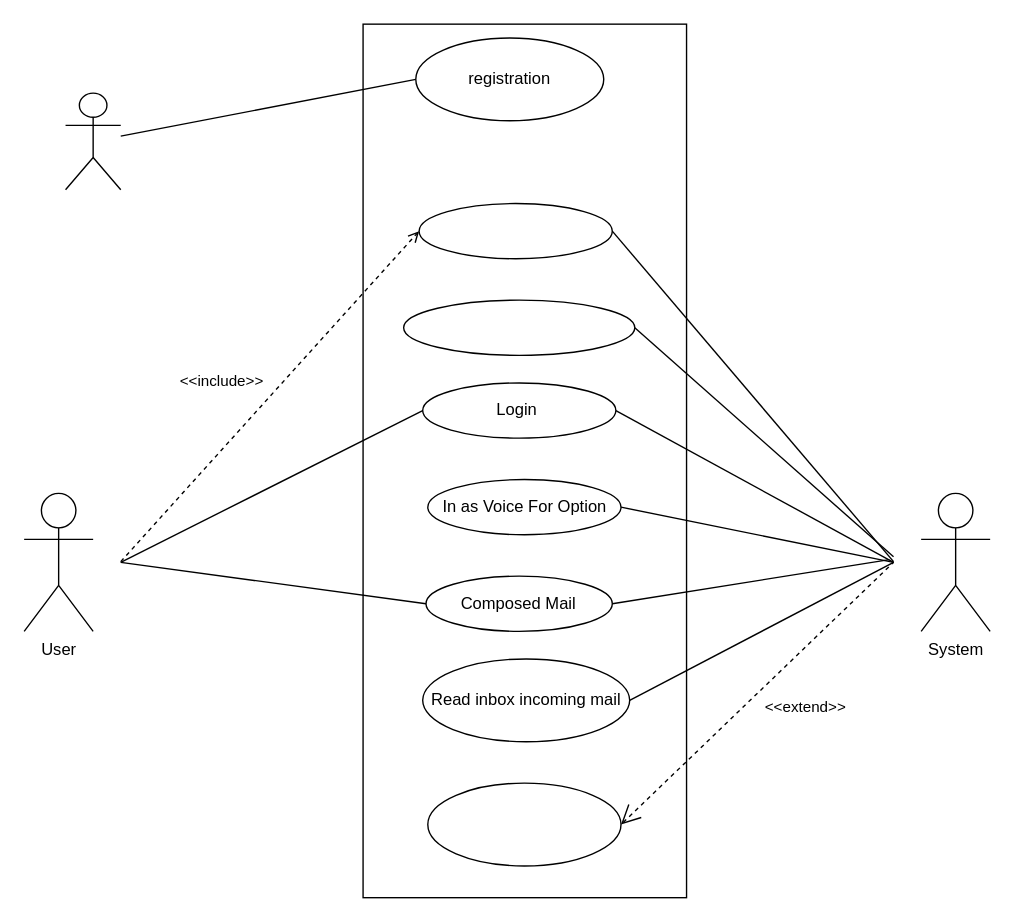
Image size: 1014x922. Some labels were removed from this diagram. Each missing label, with the centre of its shape:
"Face Detection" goes at (515,230).
"Face Recognition" goes at (518,327).
"New user" goes at (92,141).
"Read Text and output as a voice" goes at (523,824).
